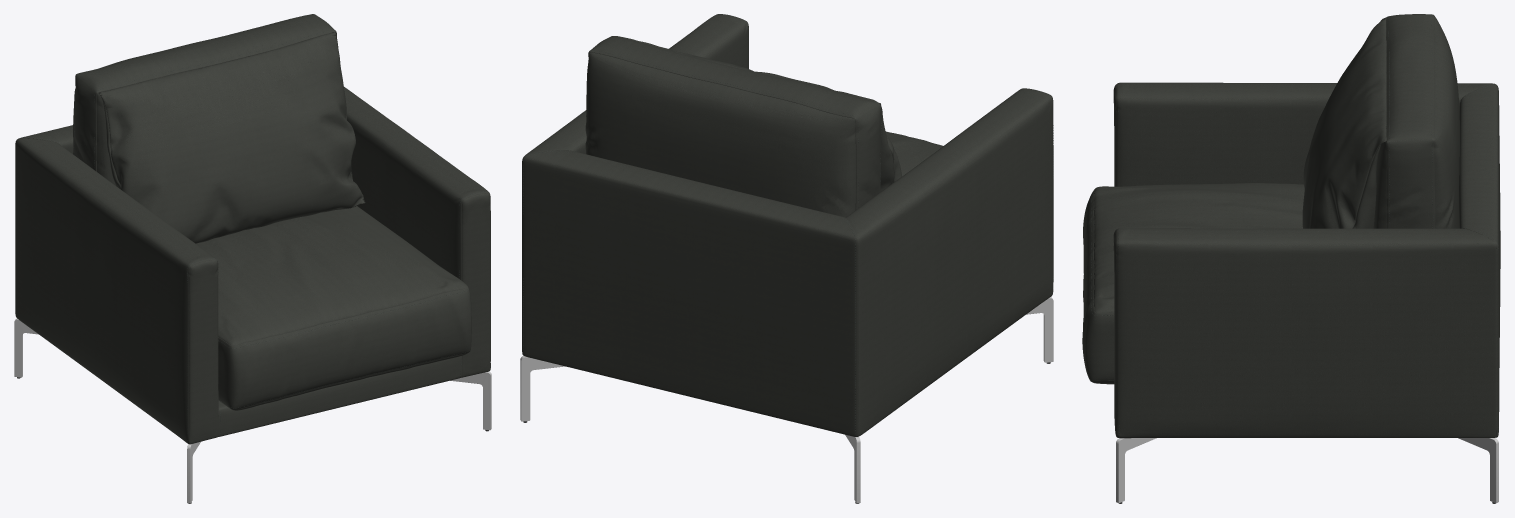
The picture shows the model from 3 angles, left to right: view 1: azimuth 30°, elevation 25°; view 2: azimuth 150°, elevation 25°; view 3: azimuth 270°, elevation 25°; orthographic projection. The views are drawn at different scales.
Parts seen in each view (by area): view 1: Aidos_tek_kasa001, aidos_tek_minder_zb001, aidostek_yastik001, Aidos_tek_sirt001, Line036, Line039; view 2: Aidos_tek_kasa001, Aidos_tek_sirt001, aidostek_yastik001, aidos_tek_minder_zb001, Line037, Line038; view 3: Aidos_tek_kasa001, Aidos_tek_sirt001, aidos_tek_minder_zb001, aidostek_yastik001, Line037, Line036.
Part boxes in pixels (box(x1,y1,x2,y2)): Aidos_tek_kasa001: box(15, 87, 490, 444); aidos_tek_minder_zb001: box(196, 206, 471, 410); aidostek_yastik001: box(98, 32, 365, 243); Aidos_tek_sirt001: box(73, 14, 336, 185); Line036: box(450, 371, 491, 430); Line039: box(14, 318, 38, 377); Aidos_tek_kasa001: box(522, 14, 1053, 436); Aidos_tek_sirt001: box(585, 36, 881, 217); aidostek_yastik001: box(615, 36, 901, 191); aidos_tek_minder_zb001: box(885, 131, 942, 176); Line037: box(520, 356, 565, 421); Line038: box(1026, 297, 1053, 362); Aidos_tek_kasa001: box(1113, 82, 1500, 438); Aidos_tek_sirt001: box(1373, 14, 1459, 228); aidos_tek_minder_zb001: box(1082, 183, 1304, 384); aidostek_yastik001: box(1302, 17, 1386, 228); Line037: box(1458, 438, 1498, 503); Line036: box(1116, 438, 1156, 503).
Size of the model in its own units: 0.8129 by 0.808 by 0.8689.
